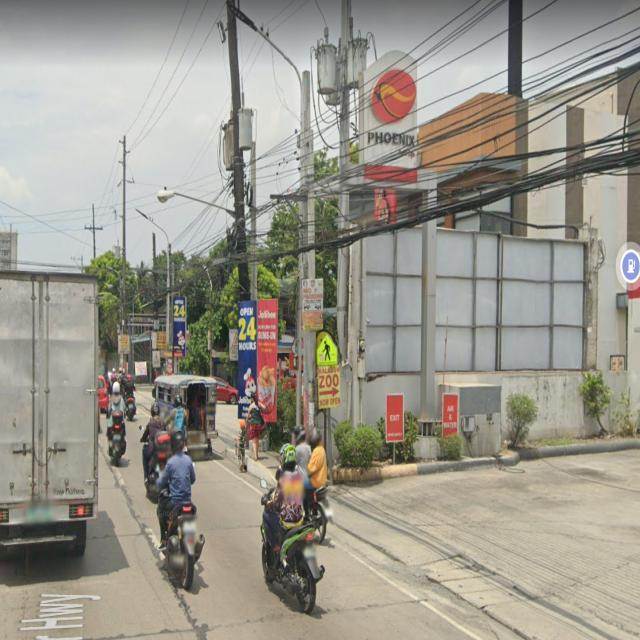pedestrian crossing: (316, 333, 339, 368)
